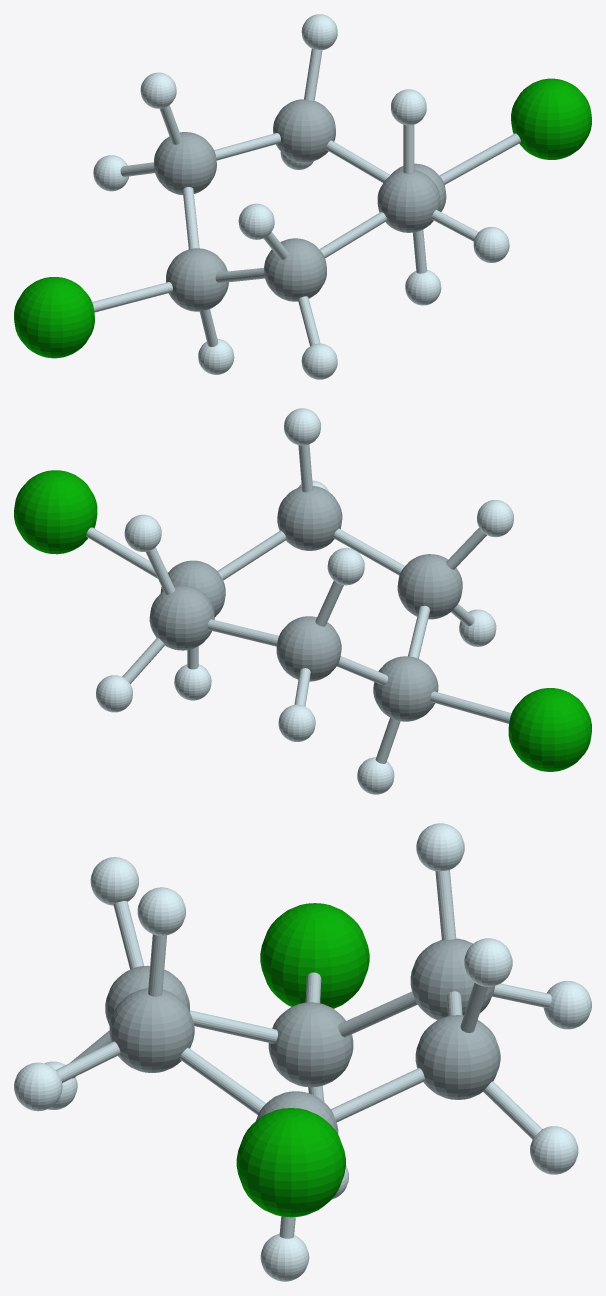
The model's file is irc_step_230.glb.
3 renders of one model, top to bottom at view 1: azimuth 30°, elevation 25°; view 2: azimuth 150°, elevation 25°; view 3: azimuth 270°, elevation 25°, orthographic. The views are drawn at different scales.
Parts seen in each view (by area): view 1: Renderer Node; view 2: Renderer Node; view 3: Renderer Node.
Boxes of the visible parts, <box> form: Renderer Node: <box>14,14,591,379</box>; Renderer Node: <box>14,408,591,794</box>; Renderer Node: <box>14,823,591,1281</box>.
Size of the model in its own units: 7.11 by 3.58 by 4.75.
